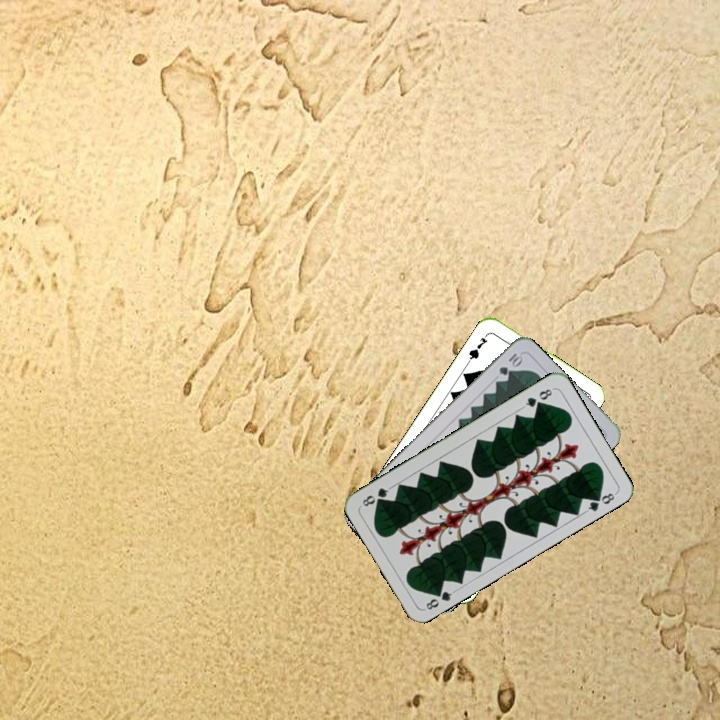G10: (495, 349, 525, 378)
G7: (464, 329, 492, 365)
G8: (422, 585, 458, 613), (519, 384, 556, 410)
